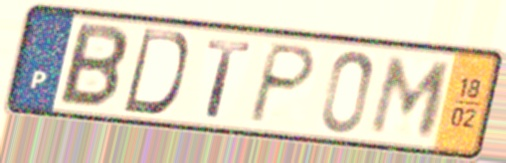0: (319, 47, 377, 136)
B: (54, 19, 131, 112)
D: (118, 26, 192, 118)
M: (365, 53, 457, 140)
P: (244, 40, 320, 127)
T: (202, 36, 255, 120)
